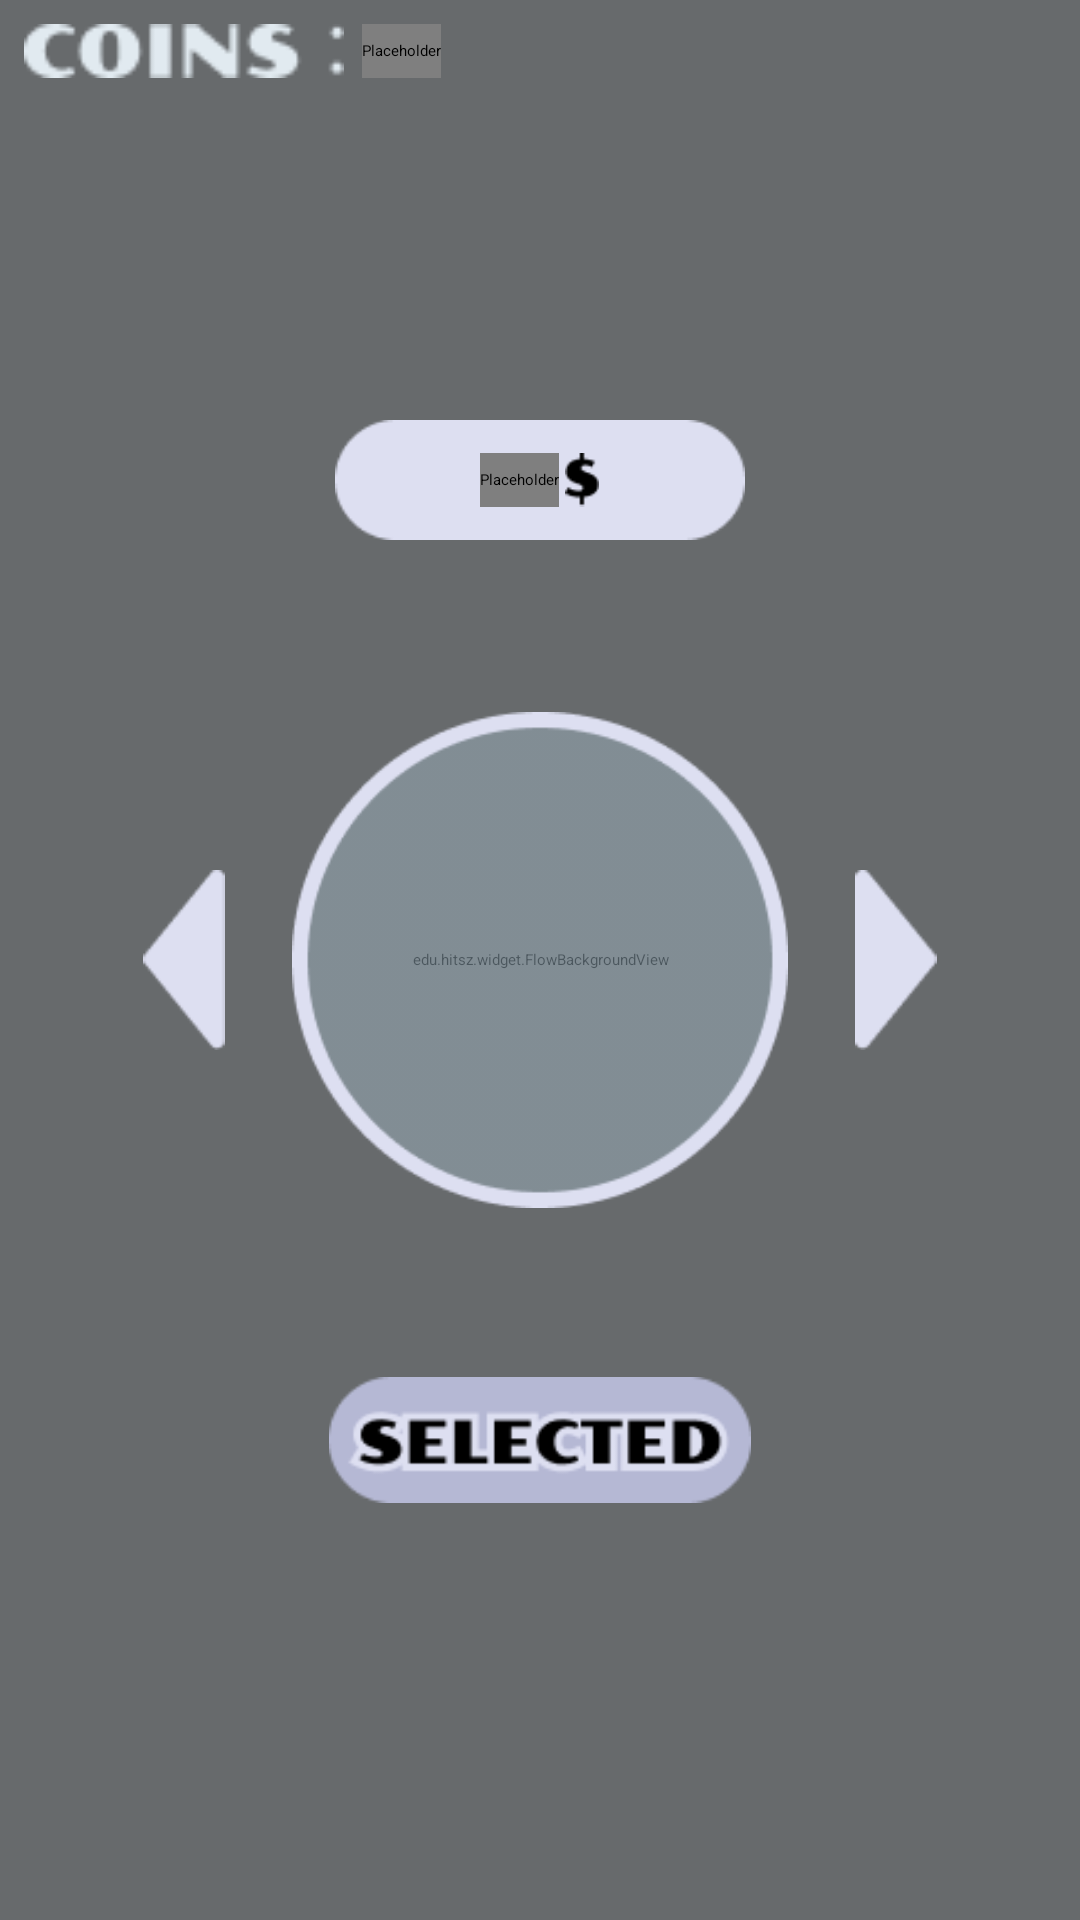

Point at icon controls on the screen. Image size 1080*1920, points as (x=x, y=y).
shop arrow left: (x=184, y=960)
shop arrow right: (x=896, y=960)
shop dollar: (x=582, y=480)
